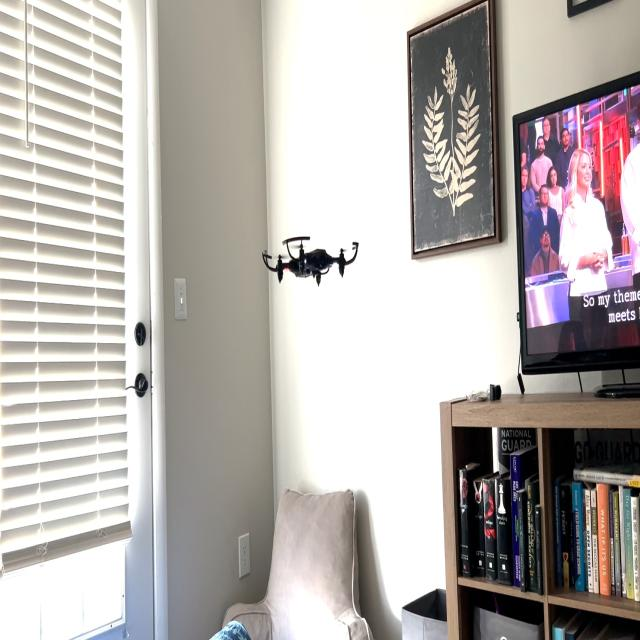drone: (253, 220, 369, 296)
